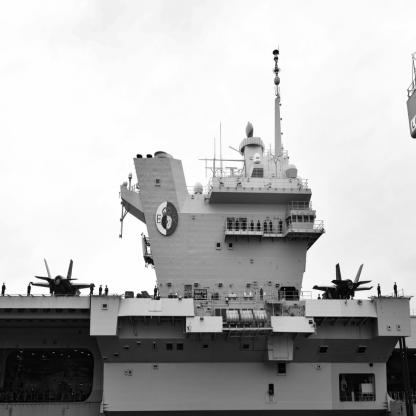F35: (30, 258, 97, 298), (313, 264, 375, 301)
